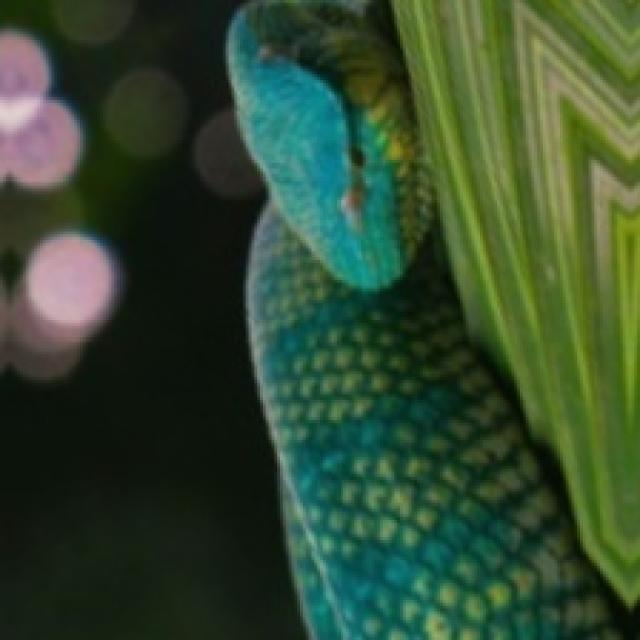north ph temple pitviper: (229, 0, 637, 637)
